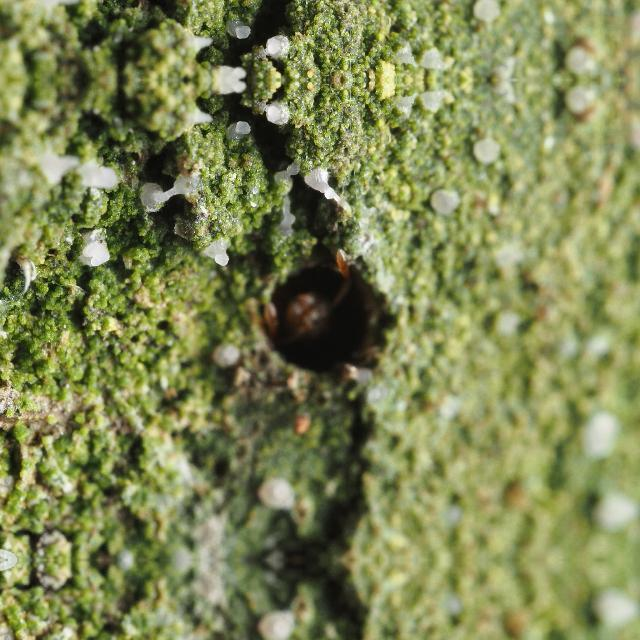Temnothorax: (226, 212, 380, 372)
